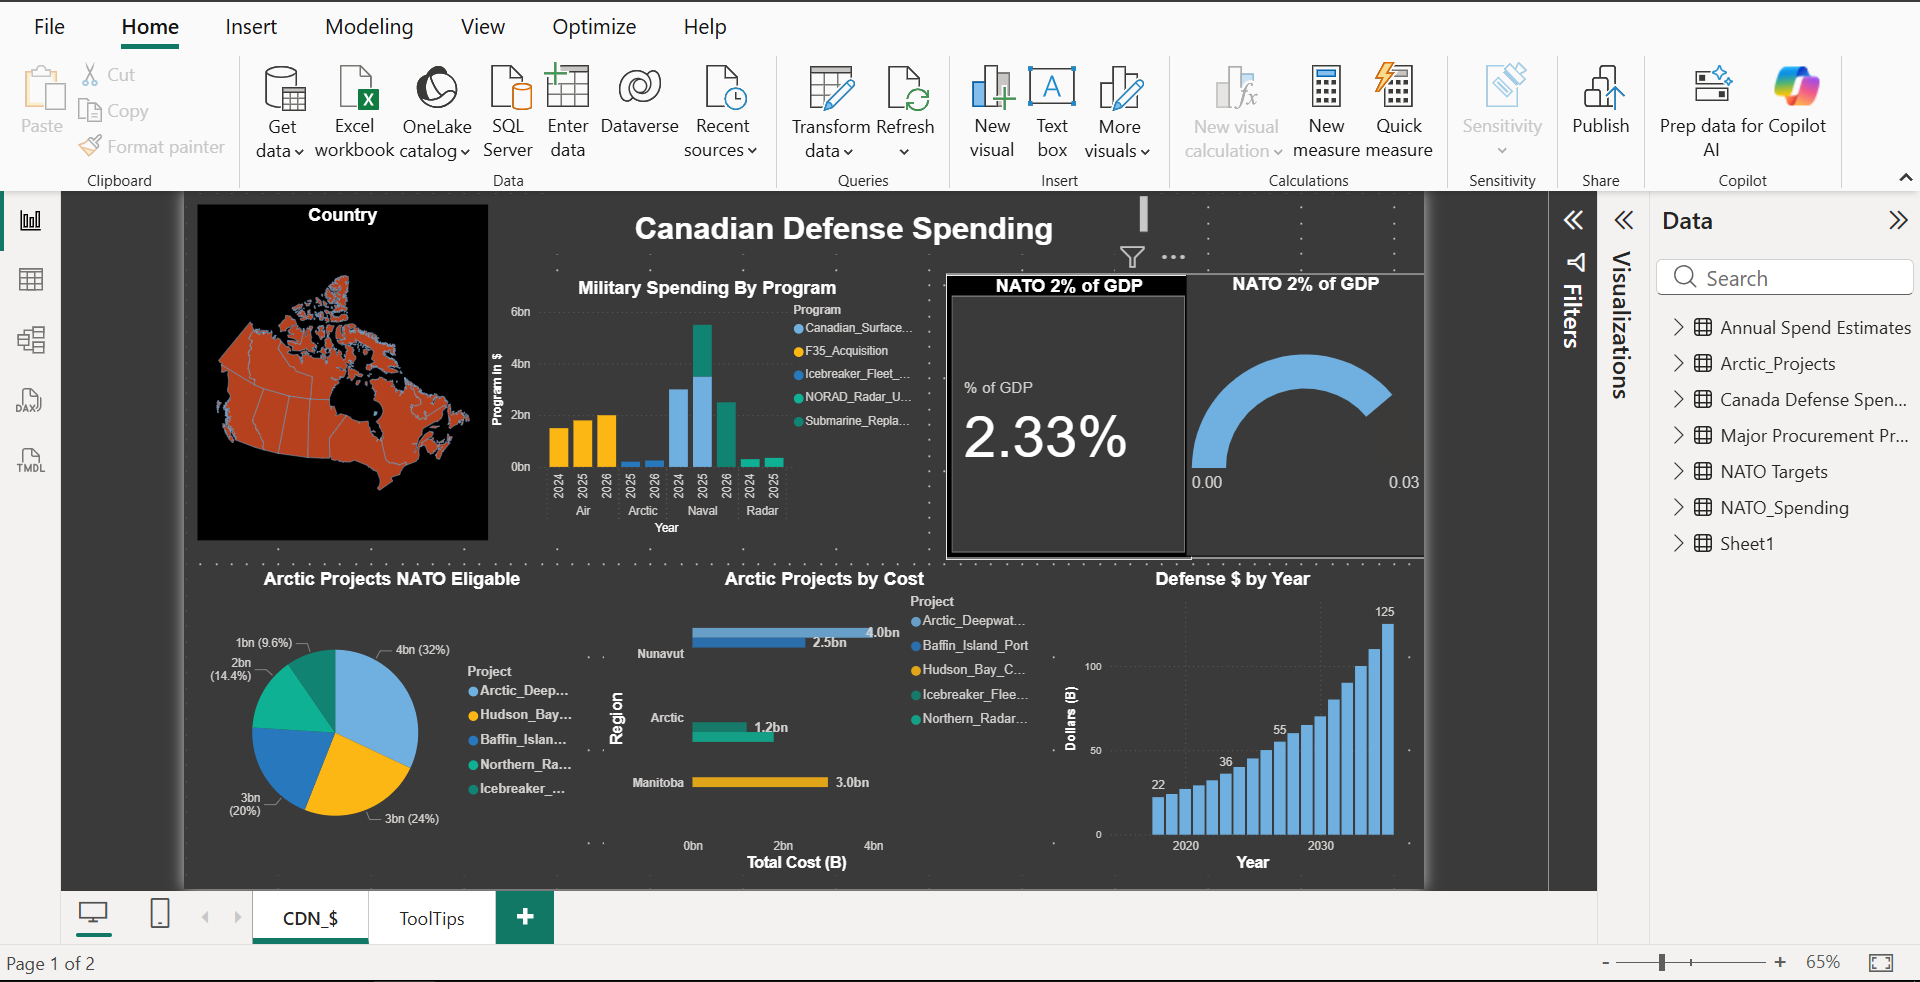

This screenshot's page, from the dashboard's own definition file:
{"tool":"powerbi","page":{"name":"CDN_$","canvas":[1280,720],"ordinal":0},"visuals":[{"type":"columnChart","title":"Military Spending By Program","fields":{"Category":["Major Procurement Programs (202.Category","Annual Spend Estimates.Year"],"Series":["Annual Spend Estimates.Program"],"Y":["Sum(Annual Spend Estimates.Spend_CAD)"]},"box":[313.3,90,455,270],"z":0},{"type":"textbox","box":[380,0,620,65],"z":1000},{"type":"cardVisual","title":"NATO 2% of GDP ","fields":{"Data":["Canada Defense Spending.PercentOfGDP"]},"box":[786,86.7,253.3,293.3],"z":1000,"group":"g1"},{"type":"shapeMap","fields":{"Category":["Sheet1.Country"]},"box":[13.3,13.3,300,346.7],"z":2000},{"type":"clusteredColumnChart","title":"Defense $ by Year","fields":{"Category":["Canada Defense Spending.Year"],"Y":["Canada Defense Spending.DefenseSpend"]},"box":[905,390,356.7,316.7],"z":3000},{"type":"clusteredBarChart","title":"Arctic Projects by Cost","fields":{"Category":["Arctic_Projects.Region"],"Series":["Arctic_Projects.Project"],"Y":["Sum(Arctic_Projects.Cost_CAD)"]},"box":[433.3,390,455,316.7],"z":4000},{"type":"pieChart","title":"Arctic Projects NATO Eligable","fields":{"Category":["Arctic_Projects.Project","Arctic_Projects.Region"],"Series":["Arctic_Projects.NATO_Eligible"],"Y":["Sum(Arctic_Projects.Cost_CAD)"]},"box":[13.3,390,401.7,316.7],"z":5000},{"type":"group","id":"g1","title":"Group 1","box":[786,85,495,295],"z":6000},{"type":"gauge","title":"NATO 2% of GDP","fields":{"Y":["Canada Defense Spending.PercentOfGDP"]},"box":[1034.4,85,246.7,291.7],"z":6001,"group":"g1"}]}

Visuals, with their boxes on the page's 1280x720 design canvas (x1, y1, x2, y2). These are canvas units, not pixel positions in the 1920x982 screenshot, which may show the page scaled, cropped or inside an application window:
"Military Spending By Program" columnChart: 313, 90, 768, 360
textbox: 380, 0, 1000, 65
"NATO 2% of GDP " cardVisual: 786, 87, 1039, 380
shapeMap - Sheet1.Country: 13, 13, 313, 360
"Defense $ by Year" clusteredColumnChart: 905, 390, 1262, 707
"Arctic Projects by Cost" clusteredBarChart: 433, 390, 888, 707
"Arctic Projects NATO Eligable" pieChart: 13, 390, 415, 707
"Group 1" group: 786, 85, 1281, 380
"NATO 2% of GDP" gauge: 1034, 85, 1281, 377
